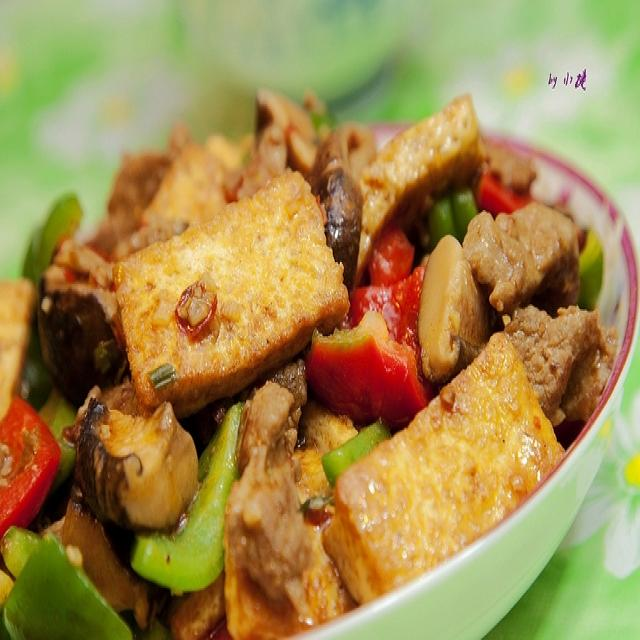豆腐料理: (10, 82, 614, 624)
